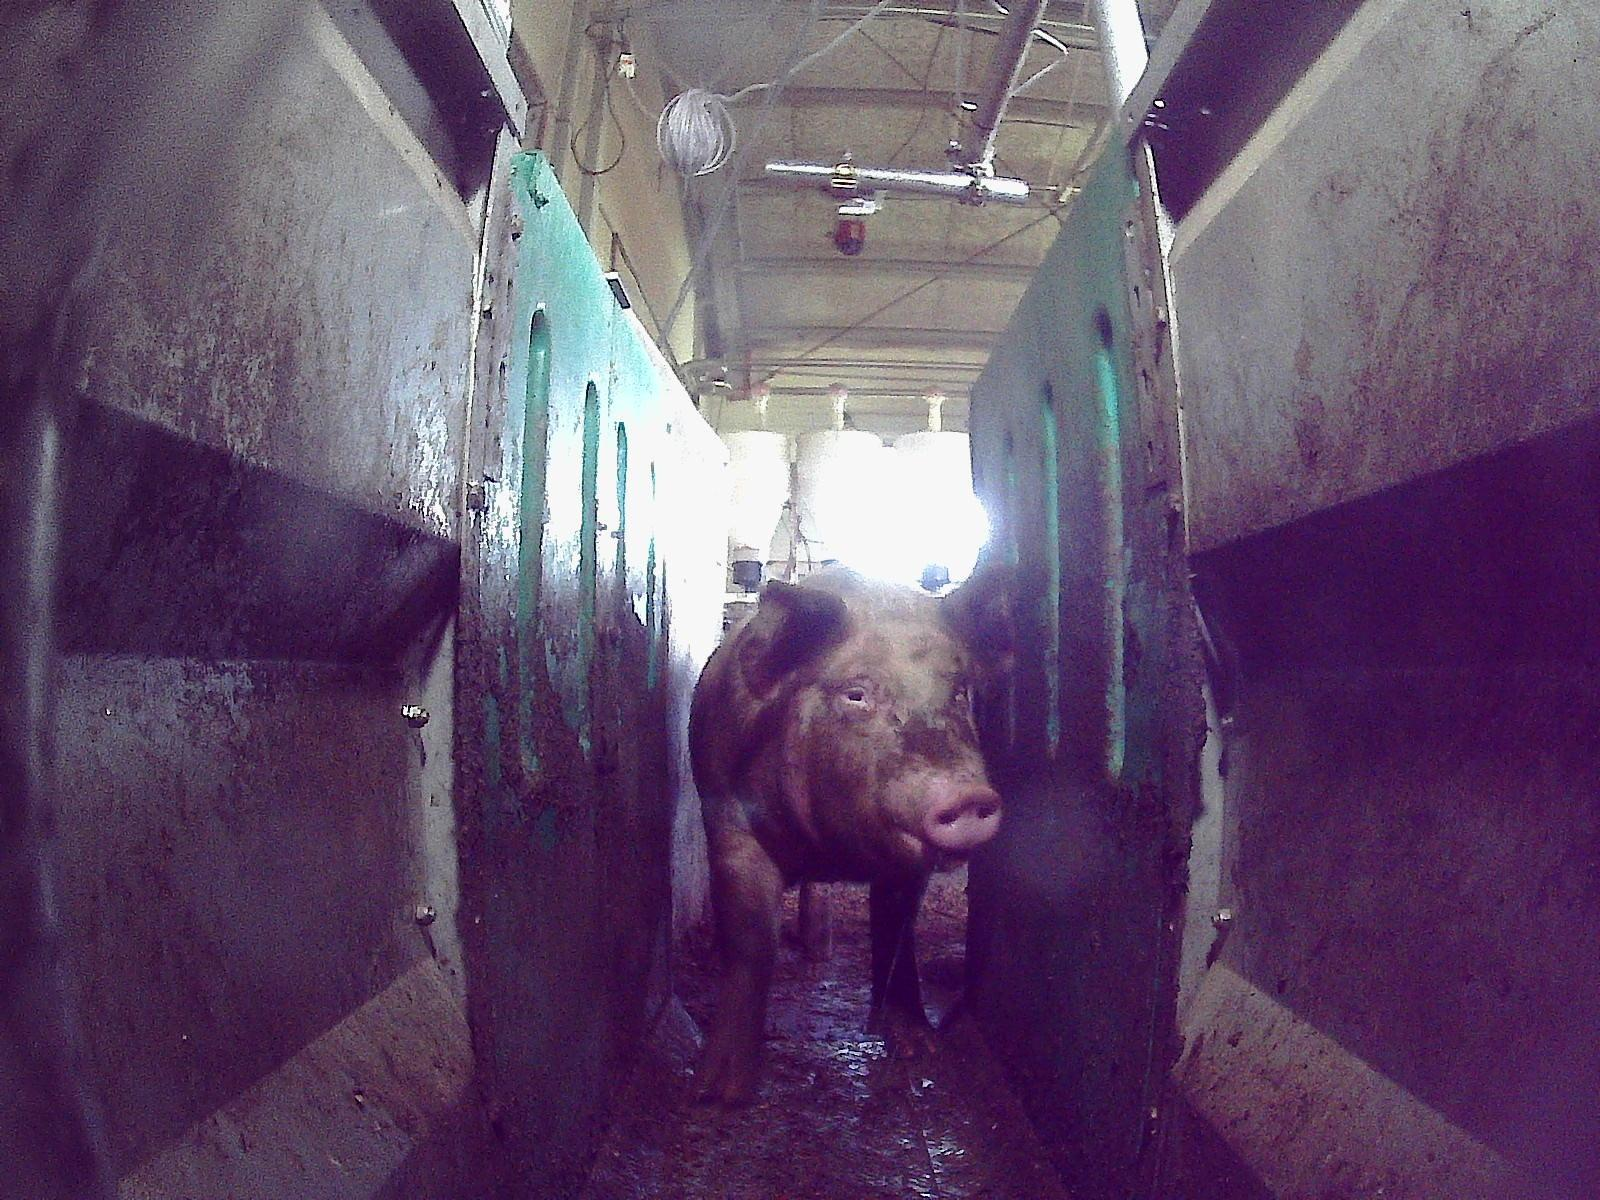Face: (770, 612, 1001, 882)
